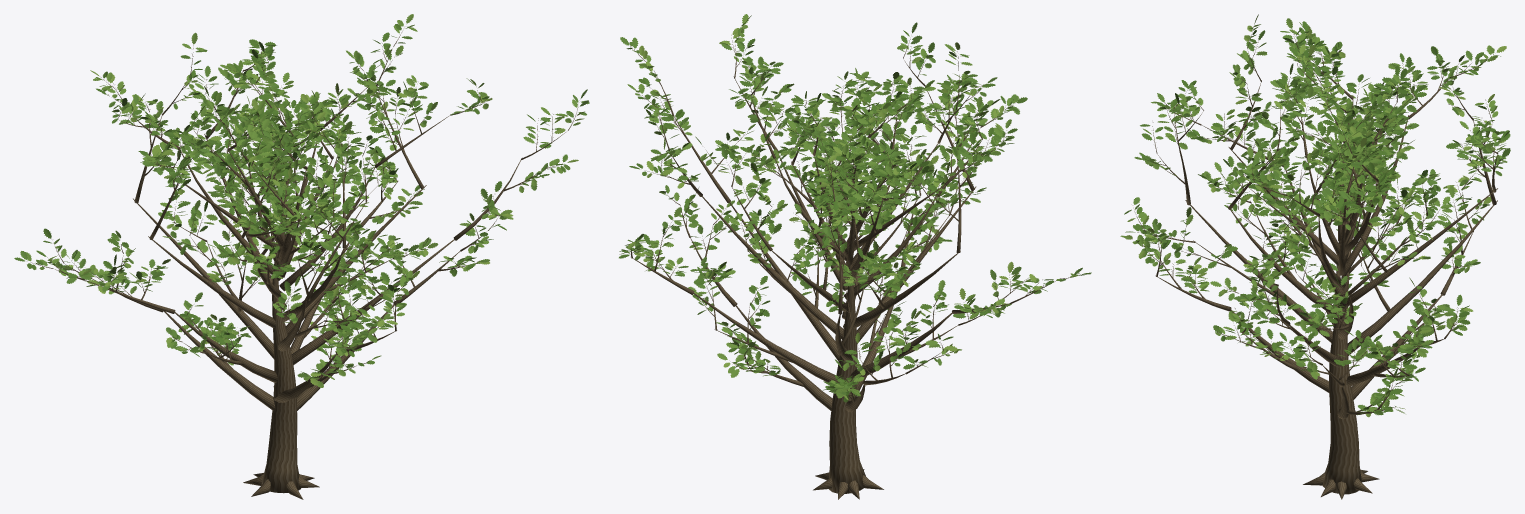
The model's file is Sessile_Oak_Mature_01_Unpruned_LOD1.fbx.
3 renders of one model, left to right at view 1: azimuth 30°, elevation 25°; view 2: azimuth 150°, elevation 25°; view 3: azimuth 270°, elevation 25°, orthographic.
Parts seen in each view (by area): view 1: Sessile_Oak_Mature_01_Unpruned_LOD1; view 2: Sessile_Oak_Mature_01_Unpruned_LOD1; view 3: Sessile_Oak_Mature_01_Unpruned_LOD1.
Part boxes in pixels (left/top/right/bottom): Sessile_Oak_Mature_01_Unpruned_LOD1: left=14, top=14, right=589, bottom=499; Sessile_Oak_Mature_01_Unpruned_LOD1: left=619, top=14, right=1091, bottom=499; Sessile_Oak_Mature_01_Unpruned_LOD1: left=1120, top=14, right=1510, bottom=499.
Size of the model in its own units: 2514 by 1999 by 1613.
Materials: 5 (1 with a texture image).
